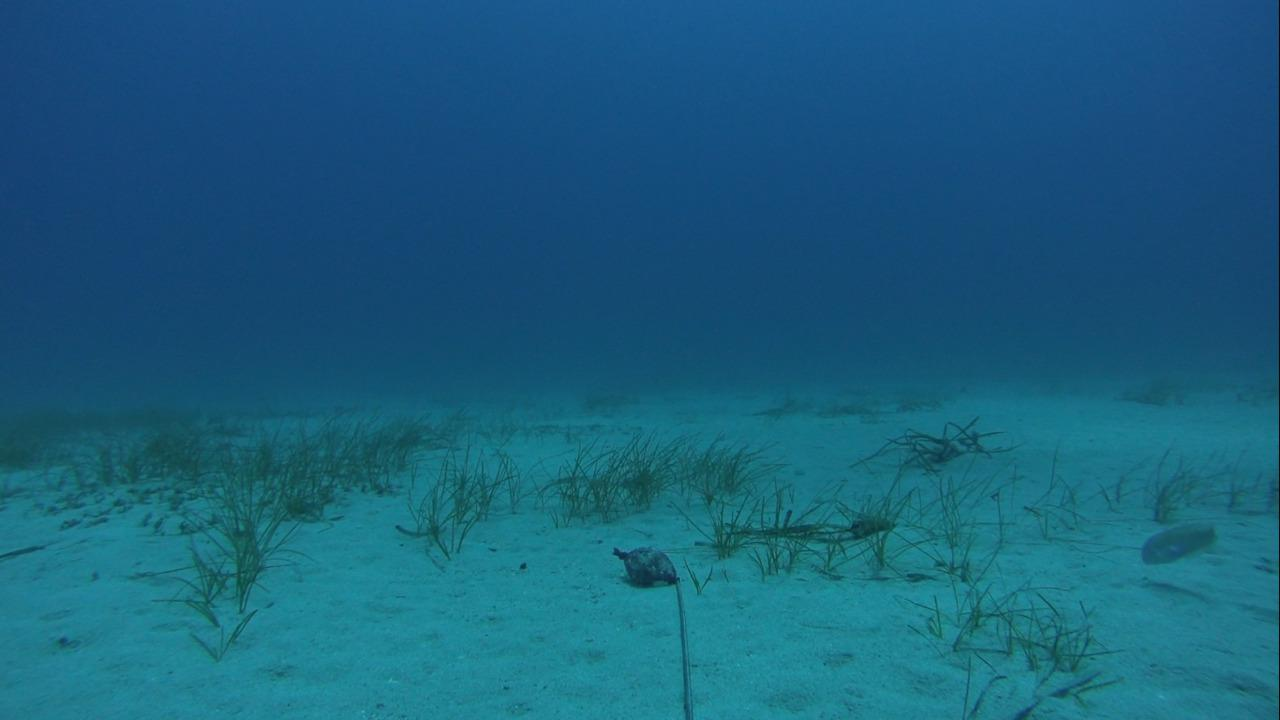raor: (1138, 519, 1220, 566)
